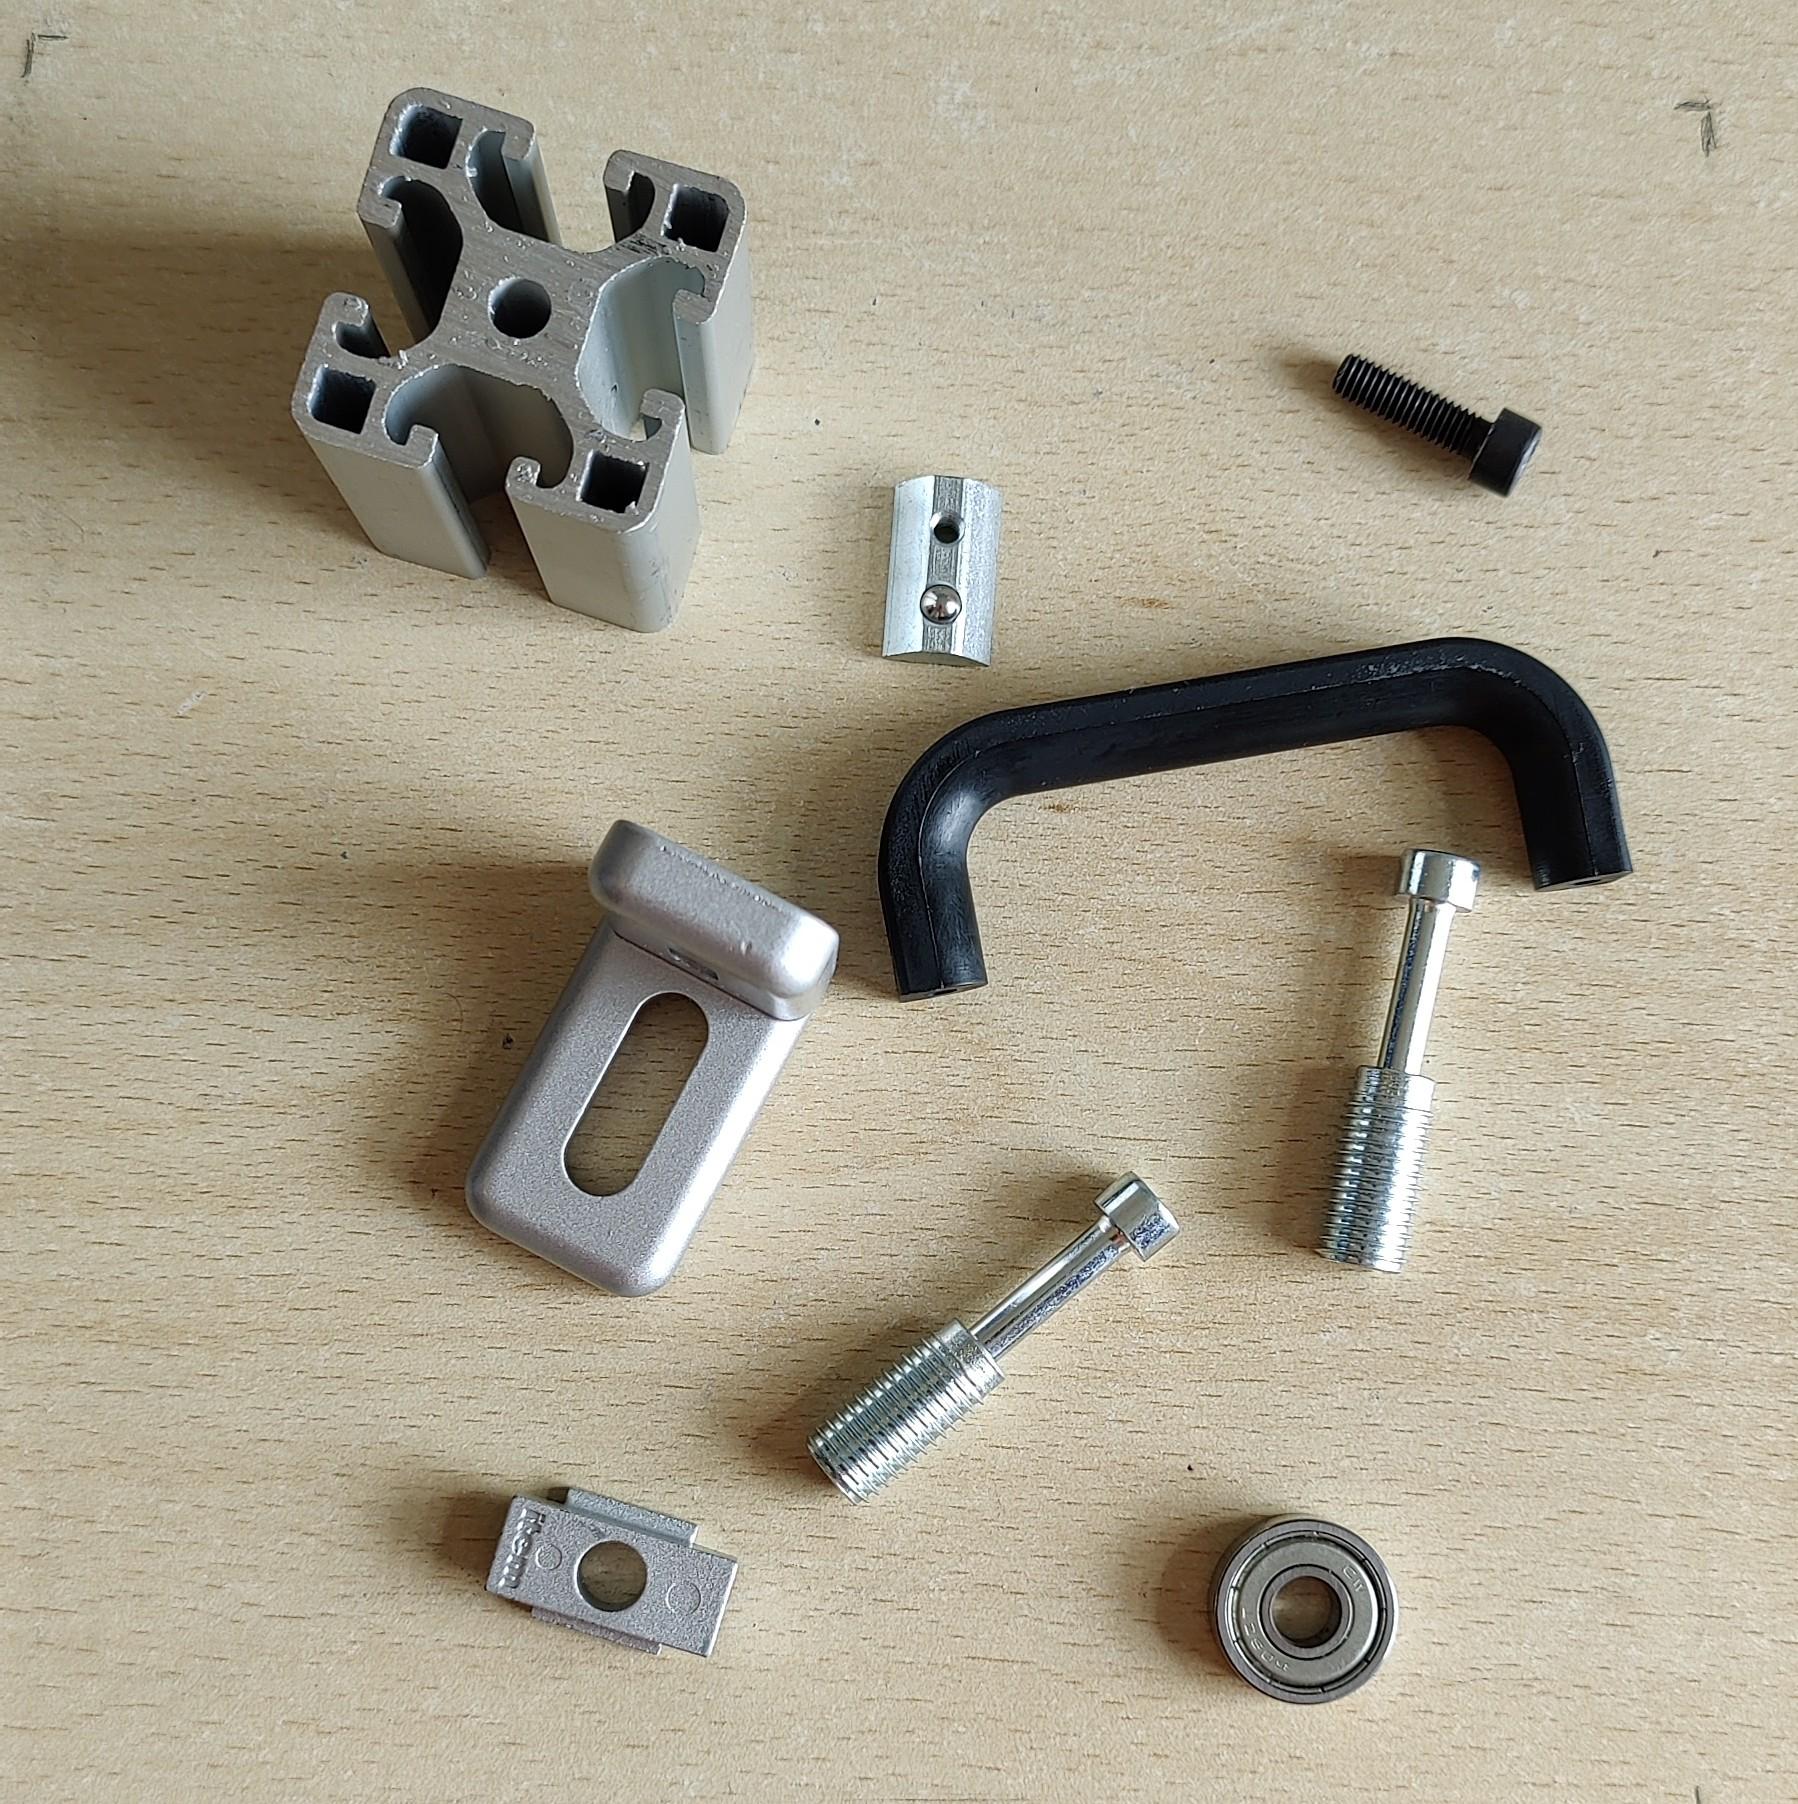Aluminium Extension: (288, 82, 761, 634)
Ball Bearing: (1204, 1511, 1400, 1707)
Multiwinkel: (461, 818, 843, 1300)
Pull Handle: (876, 634, 1637, 1006)
Shoulder Socket Head Cap Screw: (804, 1165, 1182, 1508), (1311, 848, 1480, 1277)
Socket Head Cap Screw: (1325, 349, 1544, 497)
T Nut Square: (481, 1481, 741, 1662)
T Spring Nut: (878, 471, 1003, 670)
